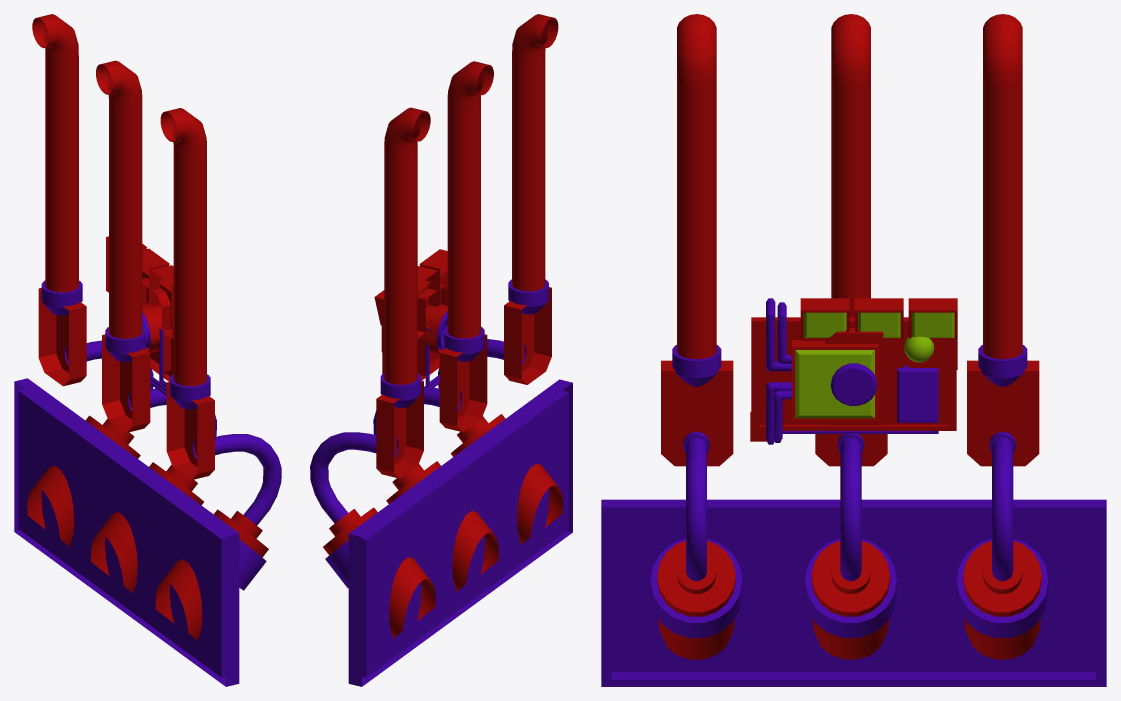
Rendered from props_nuovi 1.fbx.
The picture shows the model from 3 angles, left to right: view 1: azimuth 30°, elevation 25°; view 2: azimuth 150°, elevation 25°; view 3: azimuth 270°, elevation 25°; orthographic projection. The views are drawn at different scales.
Parts seen in each view (by area): view 1: coso_con_tre_cosi, tre_monitorini, affarino, lucina, pannellino; view 2: coso_con_tre_cosi, tre_monitorini, affarino, lucina, pannellino; view 3: coso_con_tre_cosi, pannellino, tre_monitorini, lucina2, affarino.
Part boxes in pixels (x1,y1,x2,y2): coso_con_tre_cosi: (14, 14, 281, 686); tre_monitorini: (106, 236, 173, 395); affarino: (142, 278, 170, 373); lucina: (142, 302, 167, 352); pannellino: (142, 264, 173, 381); coso_con_tre_cosi: (310, 14, 572, 686); tre_monitorini: (374, 249, 447, 394); affarino: (417, 284, 447, 376); lucina: (420, 304, 447, 354); pannellino: (382, 264, 447, 380); coso_con_tre_cosi: (601, 14, 1106, 686); pannellino: (751, 298, 956, 444); tre_monitorini: (750, 298, 957, 441); lucina2: (830, 363, 877, 405); affarino: (824, 328, 883, 425).
Size of the model in its own units: 0.943 by 4.44 by 3.1.
